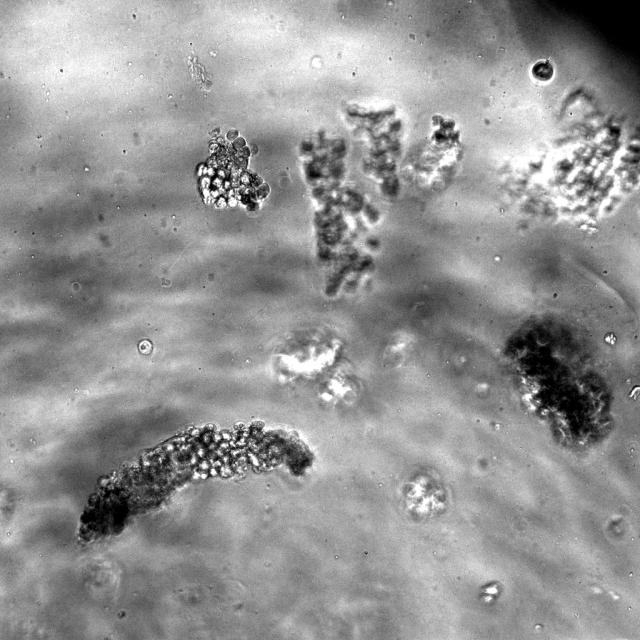organoid: (78, 421, 314, 545), (504, 87, 639, 230), (504, 314, 612, 450), (299, 130, 379, 296), (345, 103, 461, 197), (272, 328, 359, 405), (196, 128, 269, 210), (400, 467, 450, 522), (529, 58, 556, 85), (478, 581, 502, 604), (138, 338, 153, 355)
